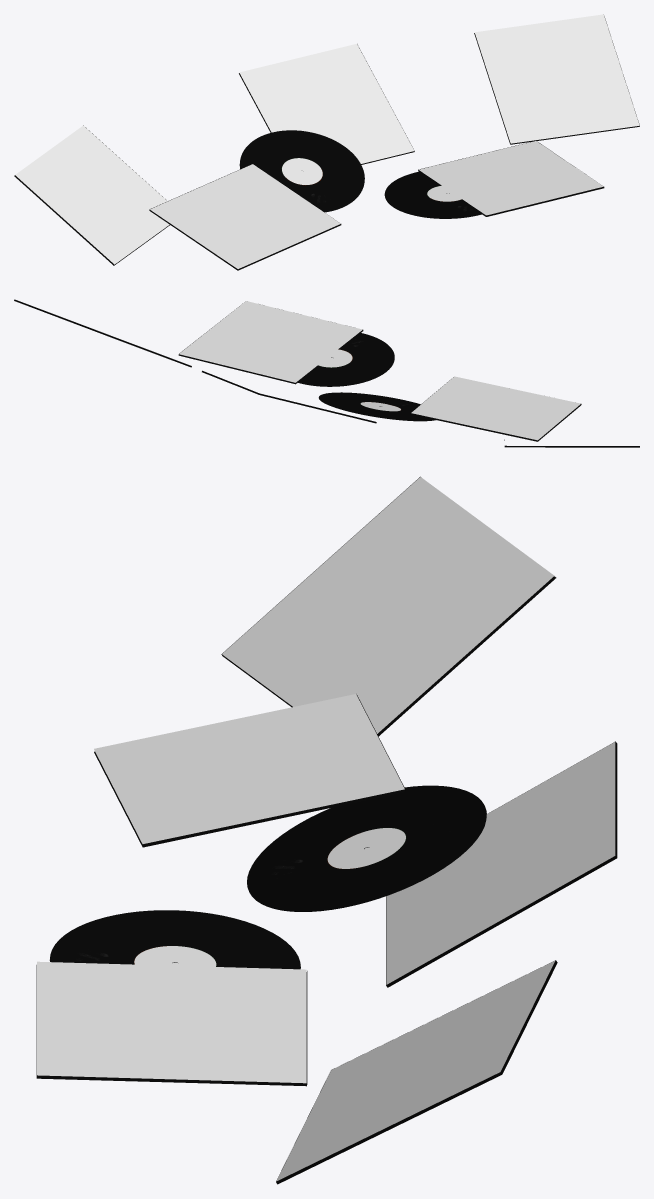
The model's file is vinyls.glb.
The picture shows the model from 3 angles, top to bottom: view 1: azimuth 30°, elevation 25°; view 2: azimuth 150°, elevation 25°; view 3: azimuth 270°, elevation 25°; orthographic projection. The views are drawn at different scales.
Parts seen in each view (by area): view 1: vinyl_face4, vinyl_face3, vinyl_face1, vinyl_face2, vinyl_face5, #REC0002_33_Highway_To_Hell_#REC0002_Textures_0.001, #REC0002_33_Highway_To_Hell_#REC0002_Textures_0, disk_inner1, vinyl_box_face.005, vinyl_box_face.004, vinyl_box_face.006, vinyl_box_face.003; view 2: vinyl_face5, vinyl_face2, #REC0002_33_Highway_To_Hell_#REC0002_Textures_0, #REC0002_33_Highway_To_Hell_#REC0002_Textures_0.001, vinyl_box_face.004, vinyl_box_face.002, disk_inner2, vinyl_box_face.005, vinyl_box_face.006, vinyl_box_face.003, disk_inner1; view 3: vinyl_face1, vinyl_face5, vinyl_face2, vinyl_face3, vinyl_face4, #REC0002_33_Highway_To_Hell_#REC0002_Textures_0.001, #REC0002_33_Highway_To_Hell_#REC0002_Textures_0, disk_inner1, vinyl_box_face.004, vinyl_box_face.002, disk_inner2, vinyl_box_face.006 (+2 smaller).
Part boxes in pixels (x1,y1,x2,y2): vinyl_face4: [474, 14, 639, 143]; vinyl_face3: [239, 44, 414, 163]; vinyl_face1: [15, 125, 169, 264]; vinyl_face2: [150, 164, 340, 268]; vinyl_face5: [419, 141, 603, 215]; #REC0002_33_Highway_To_Hell_#REC0002_Textures_0.001: [239, 130, 364, 212]; #REC0002_33_Highway_To_Hell_#REC0002_Textures_0: [384, 171, 483, 218]; disk_inner1: [282, 158, 322, 184]; vinyl_box_face.005: [149, 164, 341, 270]; vinyl_box_face.004: [474, 16, 639, 144]; vinyl_box_face.006: [418, 141, 604, 216]; vinyl_box_face.003: [14, 125, 169, 265]; vinyl_face5: [179, 301, 362, 382]; vinyl_face2: [411, 376, 580, 440]; #REC0002_33_Highway_To_Hell_#REC0002_Textures_0: [296, 332, 394, 386]; #REC0002_33_Highway_To_Hell_#REC0002_Textures_0.001: [318, 392, 435, 421]; vinyl_box_face.004: [14, 299, 191, 367]; vinyl_box_face.002: [202, 370, 376, 423]; disk_inner2: [318, 349, 352, 367]; vinyl_box_face.005: [410, 377, 581, 441]; vinyl_box_face.006: [178, 303, 363, 384]; vinyl_box_face.003: [504, 439, 639, 447]; disk_inner1: [360, 402, 400, 411]; vinyl_face1: [222, 477, 554, 733]; vinyl_face5: [37, 961, 306, 1083]; vinyl_face2: [94, 694, 404, 843]; vinyl_face3: [386, 742, 615, 984]; vinyl_face4: [276, 960, 555, 1181]; #REC0002_33_Highway_To_Hell_#REC0002_Textures_0.001: [247, 785, 486, 911]; #REC0002_33_Highway_To_Hell_#REC0002_Textures_0: [49, 910, 300, 969]; disk_inner1: [327, 828, 405, 868]; vinyl_box_face.004: [276, 960, 557, 1184]; vinyl_box_face.002: [386, 741, 617, 987]; disk_inner2: [134, 946, 216, 966]; vinyl_box_face.006: [36, 965, 307, 1086].
Bounding box in the file's own units: 18.65 × 2.07 × 7.75.
2 materials, 1 textured.
